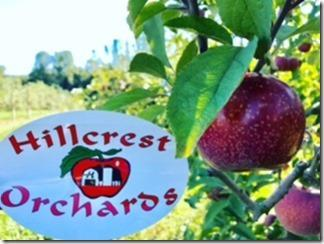apple: (196, 74, 305, 172)
